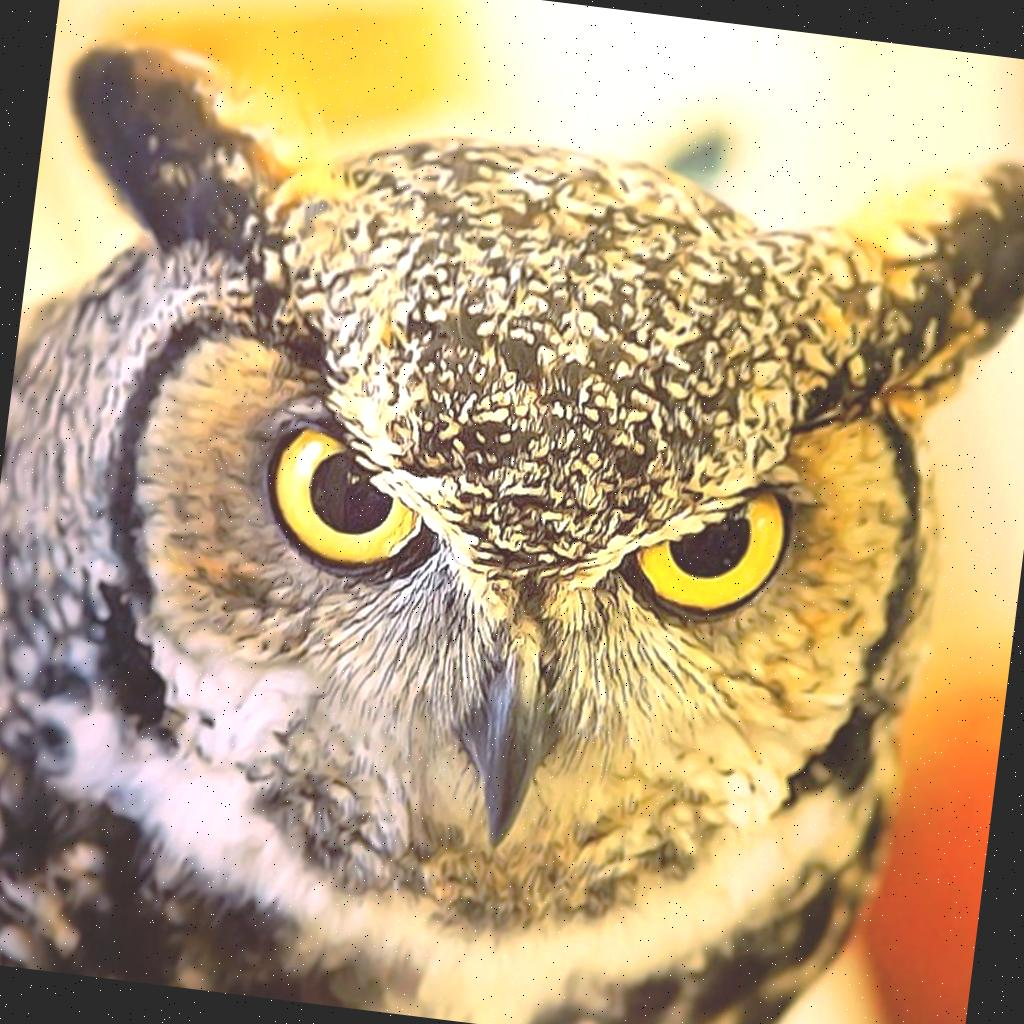Owl: (0, 19, 1024, 1024)
